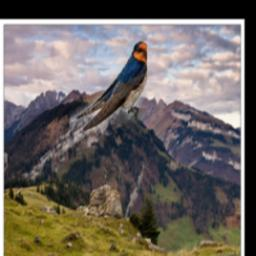Swallow: (71, 41, 148, 131)
